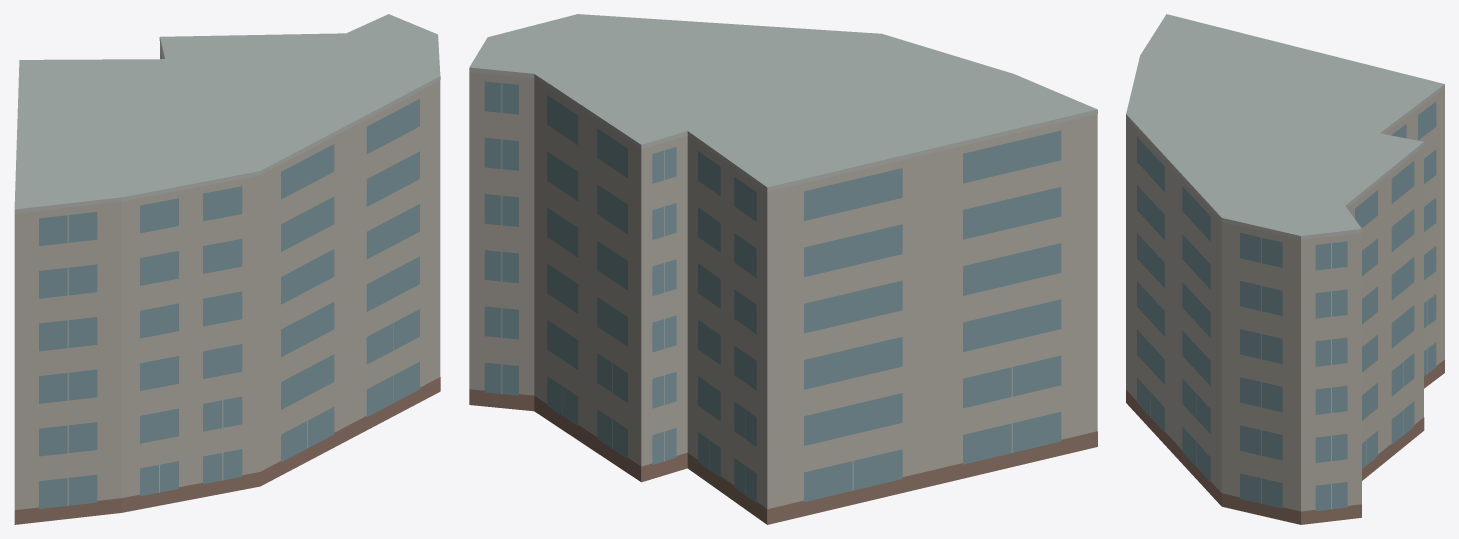
Rendered from survey-upis-32618623.glb.
3 views of the same model, side by side, from view 1: azimuth 30°, elevation 25°; view 2: azimuth 150°, elevation 25°; view 3: azimuth 270°, elevation 25° (orthographic). The views are drawn at different scales.
Visible parts, largest first — view 1: survey-upis-32618623.tmp; view 2: survey-upis-32618623.tmp; view 3: survey-upis-32618623.tmp.
Part boxes in pixels (x1=…): survey-upis-32618623.tmp: x1=14, y1=14, x2=440, y2=524; survey-upis-32618623.tmp: x1=469, y1=14, x2=1097, y2=524; survey-upis-32618623.tmp: x1=1126, y1=14, x2=1444, y2=524.
Bounding box in the file's own units: 30.18 × 18.3 × 18.32.
